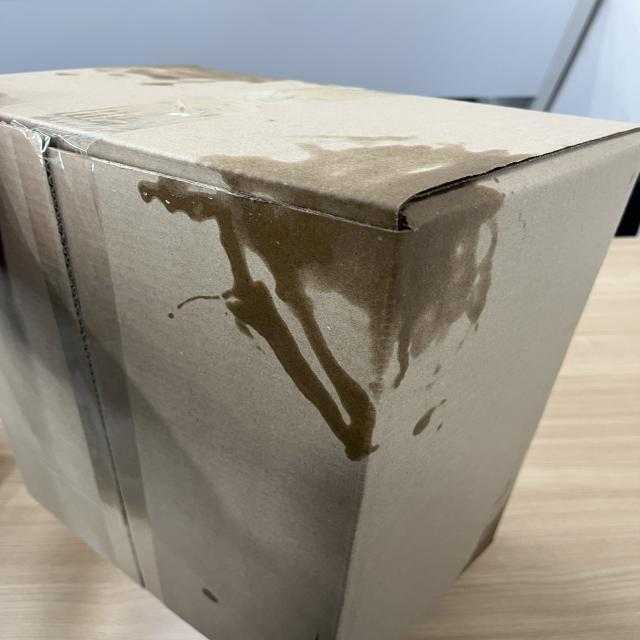wet: (179, 135, 519, 467)
